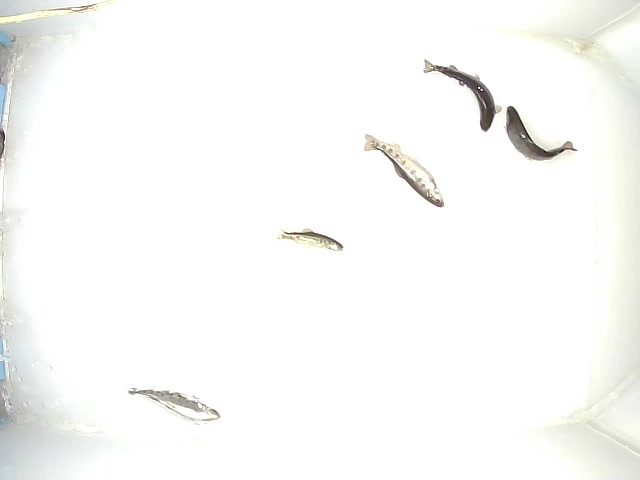fish: (359, 132, 446, 210), (421, 56, 502, 131), (125, 381, 223, 424), (505, 103, 578, 159), (275, 227, 346, 255)
